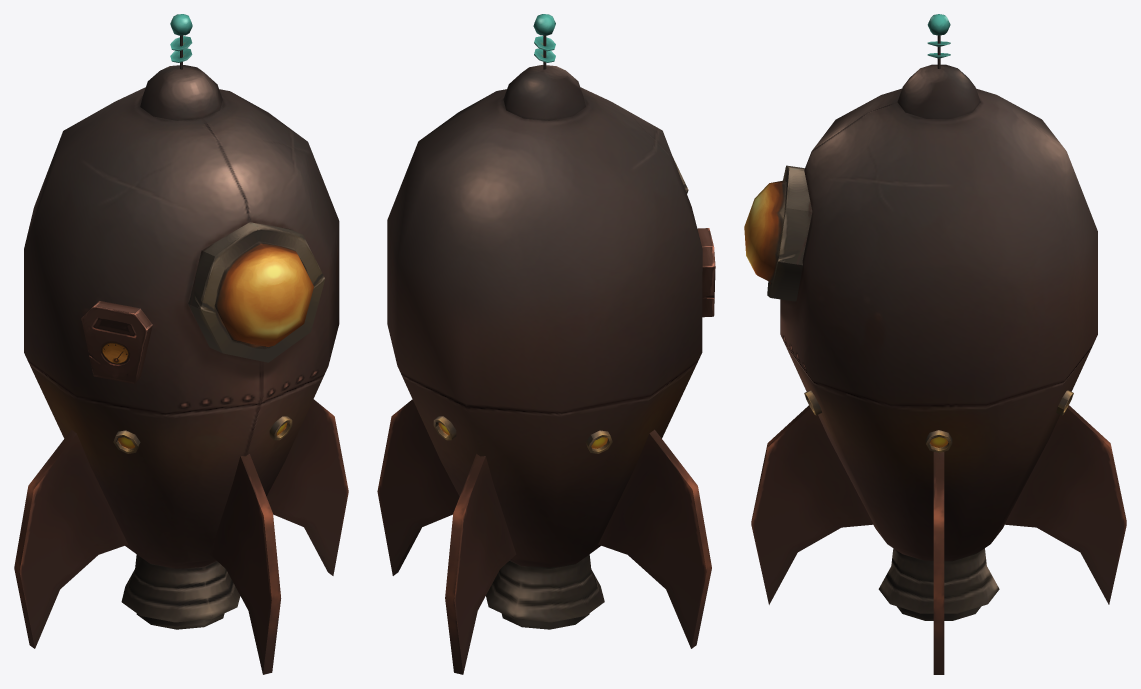
The model's file is 55_rocket.FBX.
3 renders of one model, left to right at view 1: azimuth 30°, elevation 25°; view 2: azimuth 150°, elevation 25°; view 3: azimuth 270°, elevation 25°, orthographic.
Visible parts, largest first — view 1: Cylinder026; view 2: Cylinder026; view 3: Cylinder026.
Boxes of the visible parts, <box> form: Cylinder026: <box>14,14,348,674</box>; Cylinder026: <box>377,14,715,674</box>; Cylinder026: <box>744,14,1126,674</box>.
Size of the model in its own units: 36.02 by 62.36 by 36.71.
